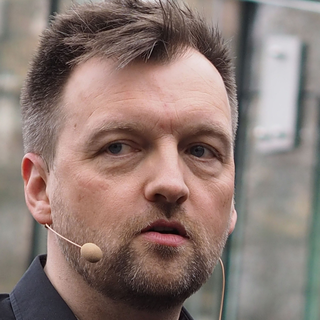eye: (91, 138, 142, 163), (180, 139, 223, 165)
